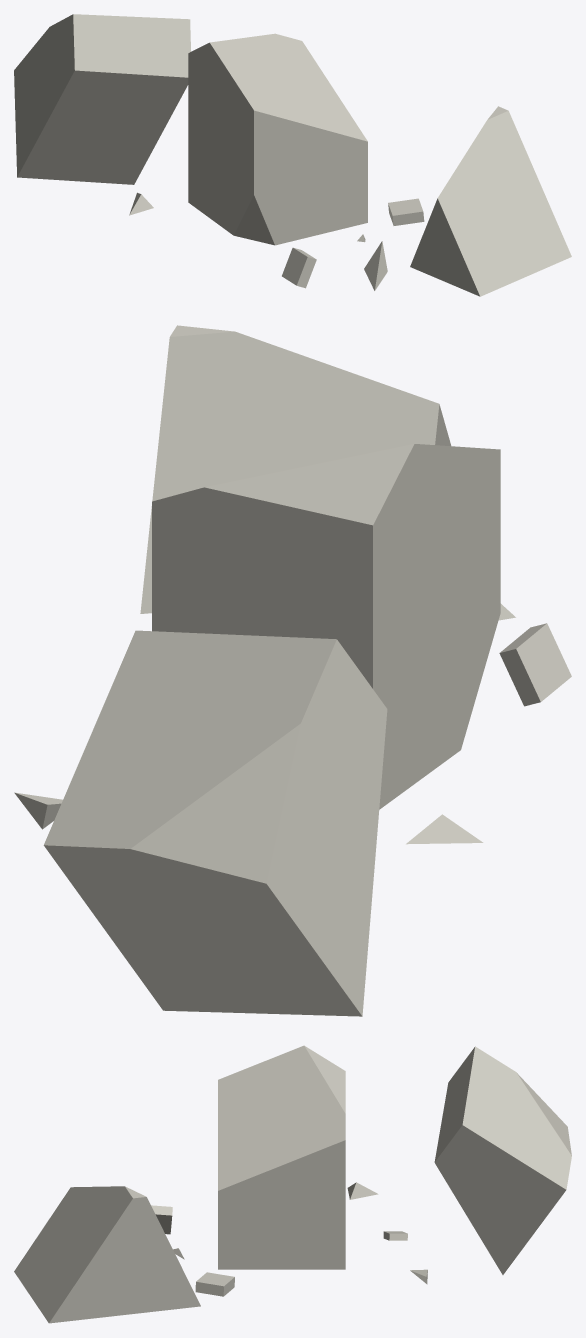
The model's file is Rock_Square_crk_m_03.fbx.
3 views of the same model, one above another, from view 1: azimuth 30°, elevation 25°; view 2: azimuth 150°, elevation 25°; view 3: azimuth 270°, elevation 25° (orthographic). The views are drawn at different scales.
Visible parts, largest first — view 1: Rock_Square_crk_m_03; view 2: Rock_Square_crk_m_03; view 3: Rock_Square_crk_m_03.
Boxes of the visible parts, bbox=[...] form: Rock_Square_crk_m_03: bbox=[14, 14, 571, 296]; Rock_Square_crk_m_03: bbox=[14, 325, 571, 1016]; Rock_Square_crk_m_03: bbox=[14, 1045, 571, 1323].
Bounding box in the file's own units: 119 × 81.12 × 189.
